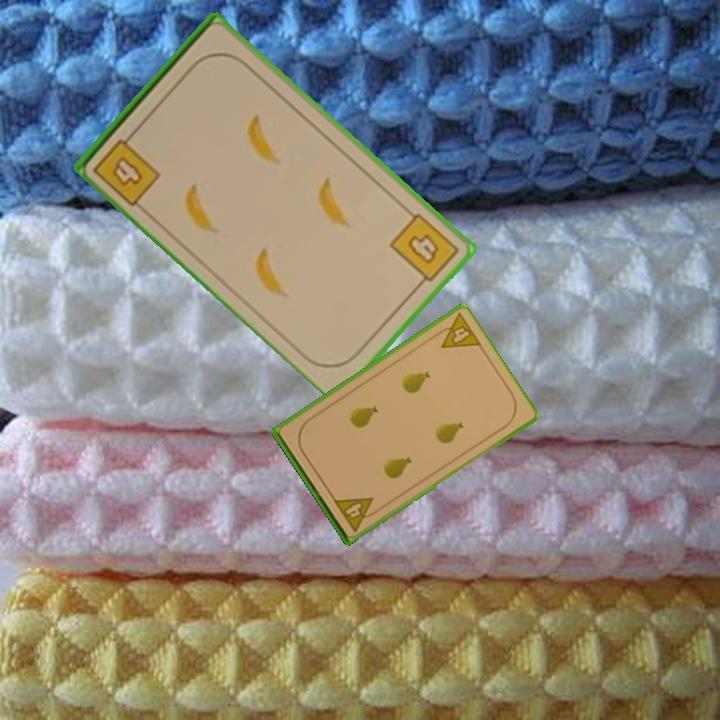4b: (385, 209, 462, 291), (89, 126, 164, 209)
4p: (429, 310, 484, 351), (330, 493, 382, 534)
